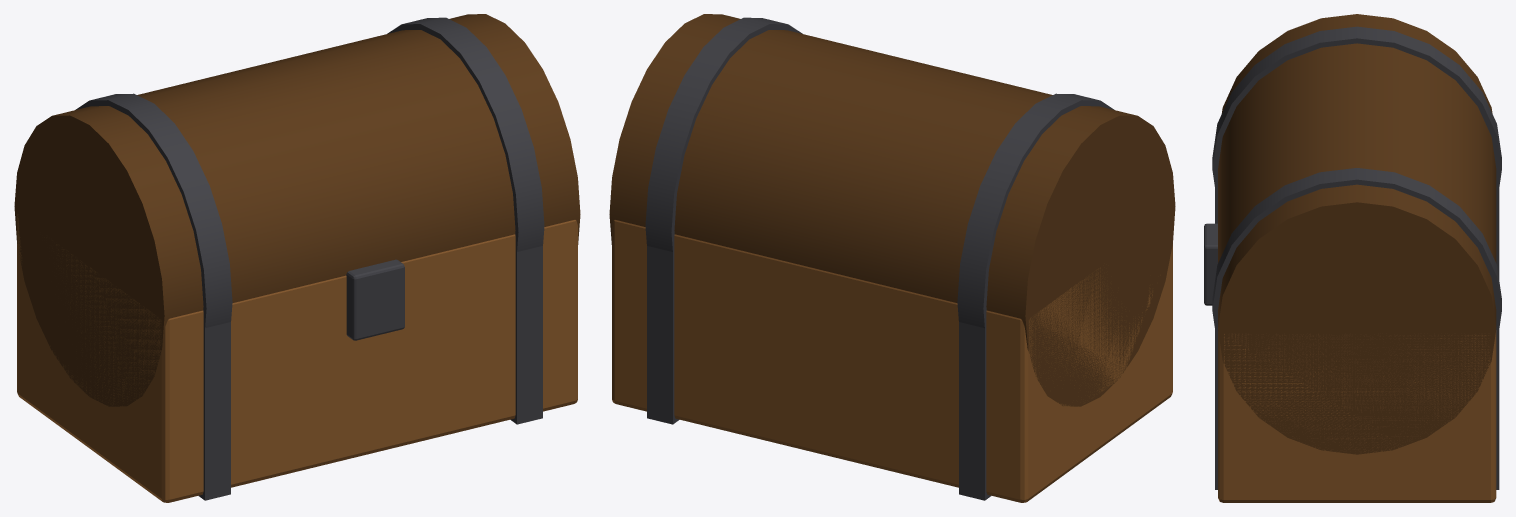
Rendered from gen_treasure_chest.mobile-high.glb.
3 renders of one model, left to right at view 1: azimuth 30°, elevation 25°; view 2: azimuth 150°, elevation 25°; view 3: azimuth 270°, elevation 25°, orthographic. The views are drawn at different scales.
Visible parts, largest first — view 1: chest_lid, gen_treasure_chest; view 2: chest_lid, gen_treasure_chest; view 3: chest_lid, gen_treasure_chest.
Part boxes in pixels (x1,y1,x2,y2): chest_lid: (14, 14, 580, 406); gen_treasure_chest: (17, 214, 577, 502); chest_lid: (609, 14, 1175, 406); gen_treasure_chest: (612, 220, 1172, 502); chest_lid: (1212, 14, 1501, 454); gen_treasure_chest: (1204, 167, 1499, 502).
Size of the model in its own units: 0.8 by 0.615 by 0.535.
1 material, 1 textured.
